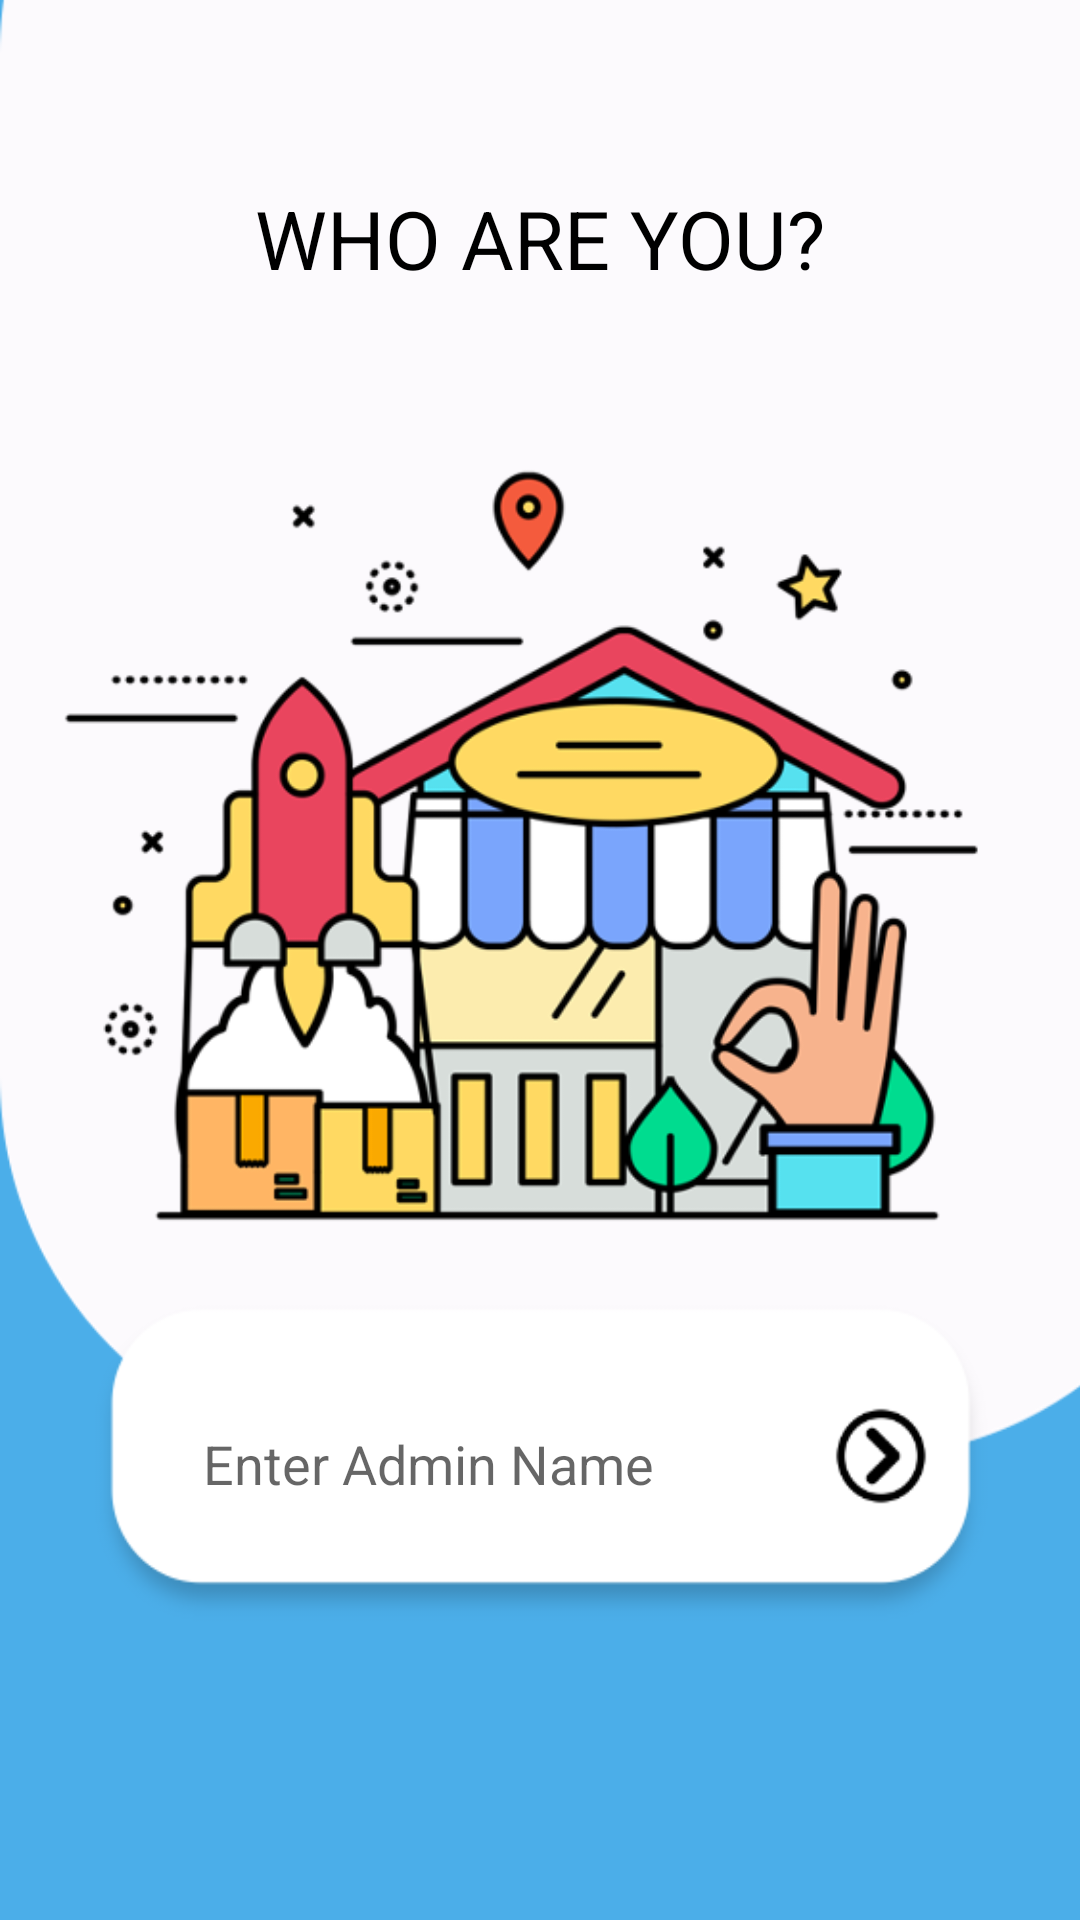

Where icons sit on this 1080 x 1920 app screen, as (x1, y1, x2, y2):
forwardbtn: (836, 1408, 926, 1504)
